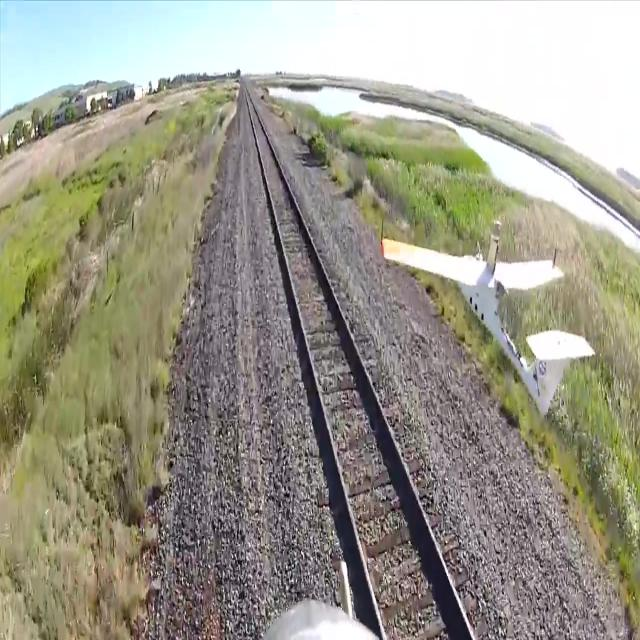iha: (379, 217, 596, 415)
